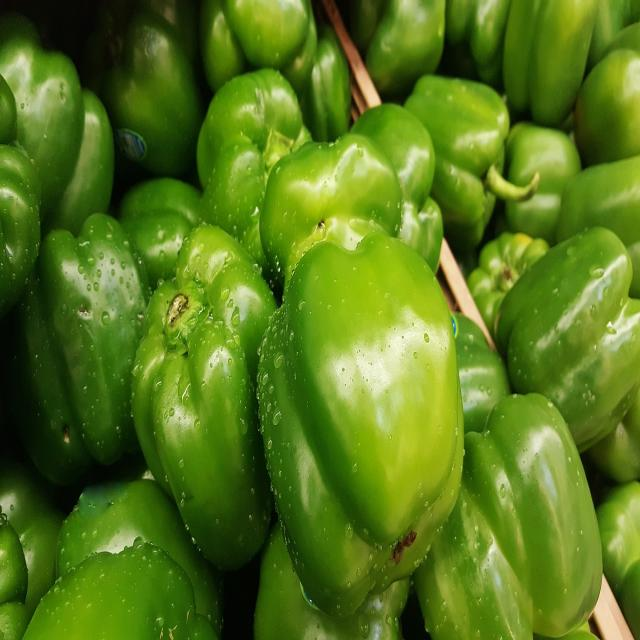Bell pepper: (263, 233, 456, 611), (135, 206, 296, 567), (420, 378, 611, 640), (3, 197, 146, 487), (488, 215, 640, 427), (194, 75, 319, 266), (396, 82, 530, 240)
